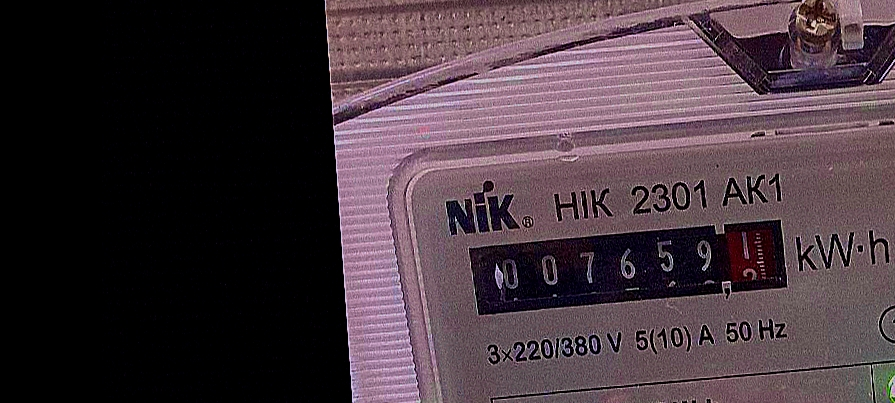0: (538, 251, 563, 289), (499, 254, 522, 294)
1: (736, 226, 755, 263)
5: (655, 237, 677, 275)
6: (615, 244, 640, 282)
7: (575, 247, 599, 287)
9: (693, 236, 716, 274)
screen: (459, 213, 799, 324)
